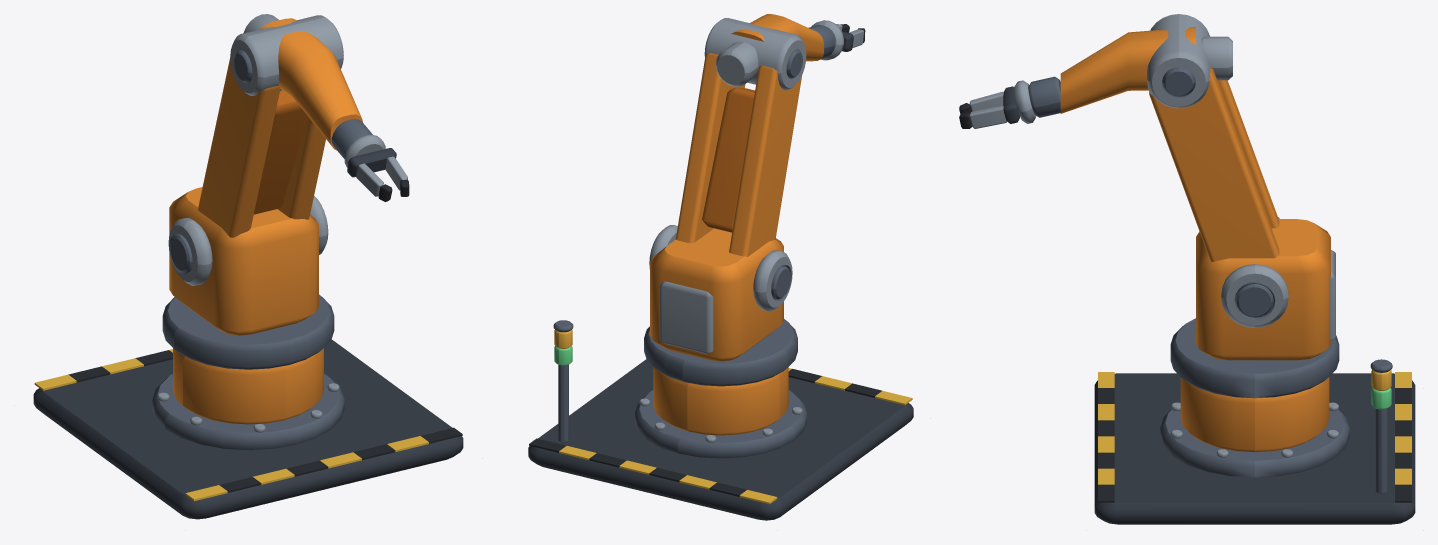
File: bras_industriel.glb
3 views of the same model, side by side, from view 1: azimuth 30°, elevation 25°; view 2: azimuth 150°, elevation 25°; view 3: azimuth 270°, elevation 25° (orthographic). The views are drawn at different scales.
Parts seen in each view (by area): view 1: pieces_av_fonce.006, tourelle_av_orange.002, epaule_av_orange.002, pieces_av_orange.002, tourelle_av_sombre.002, pieces_av_sombre.006, coude_av_orange.002, coude_av_gris.002, epaule_av_orange_fonce.002, pieces_av_jaune.004, pieces_av_cable.002, tourelle_av_gris.002 (+3 smaller); view 2: pieces_av_fonce.006, epaule_av_orange.002, tourelle_av_orange.002, pieces_av_orange.002, pieces_av_sombre.006, tourelle_av_sombre.002, tourelle_av_gris.002, coude_av_gris.002, epaule_av_orange_fonce.002, pieces_av_jaune.004, pieces_av_cable.002, coude_av_orange.002 (+1 smaller); view 3: pieces_av_fonce.006, epaule_av_orange.002, tourelle_av_orange.002, pieces_av_orange.002, tourelle_av_sombre.002, pieces_av_sombre.006, coude_av_orange.002, coude_av_gris.002, tourelle_av_gris.002, pieces_av_cable.002, pieces_av_jaune.004, poignet_av_gris.002 (+3 smaller).
Part boxes in pixels (x1,y1,x2,y2): pieces_av_fonce.006: [33, 339, 463, 519]; tourelle_av_orange.002: [169, 187, 318, 335]; epaule_av_orange.002: [198, 57, 325, 237]; pieces_av_orange.002: [173, 348, 323, 424]; tourelle_av_sombre.002: [162, 234, 334, 369]; pieces_av_sombre.006: [152, 374, 344, 449]; coude_av_orange.002: [261, 18, 362, 150]; coude_av_gris.002: [230, 14, 343, 95]; epaule_av_orange_fonce.002: [254, 91, 307, 214]; pieces_av_jaune.004: [34, 349, 428, 501]; pieces_av_cable.002: [68, 350, 462, 492]; tourelle_av_gris.002: [168, 196, 328, 285]; pieces_av_fonce.006: [528, 359, 913, 520]; epaule_av_orange.002: [675, 53, 801, 256]; tourelle_av_orange.002: [650, 228, 783, 361]; pieces_av_orange.002: [653, 367, 788, 435]; pieces_av_sombre.006: [553, 320, 806, 458]; tourelle_av_sombre.002: [644, 264, 797, 386]; tourelle_av_gris.002: [649, 225, 792, 353]; coude_av_gris.002: [704, 18, 806, 90]; epaule_av_orange_fonce.002: [702, 87, 754, 232]; pieces_av_jaune.004: [559, 368, 912, 504]; pieces_av_cable.002: [529, 369, 881, 496]; coude_av_orange.002: [731, 14, 823, 61]; pieces_av_fonce.006: [1094, 373, 1415, 524]; epaule_av_orange.002: [1149, 68, 1279, 261]; tourelle_av_orange.002: [1196, 219, 1330, 360]; pieces_av_orange.002: [1180, 377, 1329, 451]; tourelle_av_sombre.002: [1170, 281, 1339, 398]; pieces_av_sombre.006: [1160, 359, 1392, 493]; coude_av_orange.002: [1060, 27, 1195, 113]; coude_av_gris.002: [1147, 14, 1232, 108]; tourelle_av_gris.002: [1221, 217, 1335, 340]; pieces_av_cable.002: [1098, 388, 1411, 502]; pieces_av_jaune.004: [1098, 372, 1411, 484]; poignet_av_gris.002: [969, 80, 1036, 128].
Size of the model in its own units: 1 by 1.39 by 1.38.
